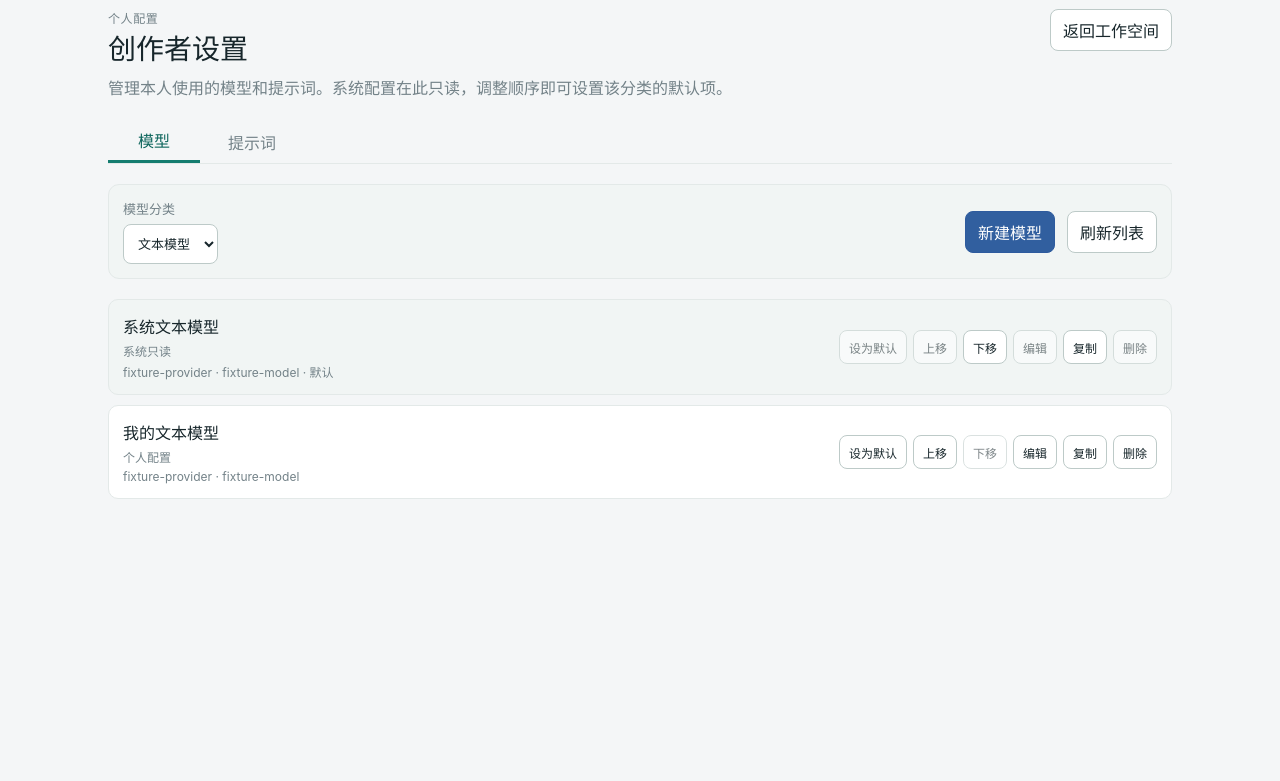
Test: creator settings › copies a complex style prompt without rewriting its JSON text
The image size is (1280, 781).
Click the tab "提示词". click: click(252, 142)
box: [206, 120, 298, 163]
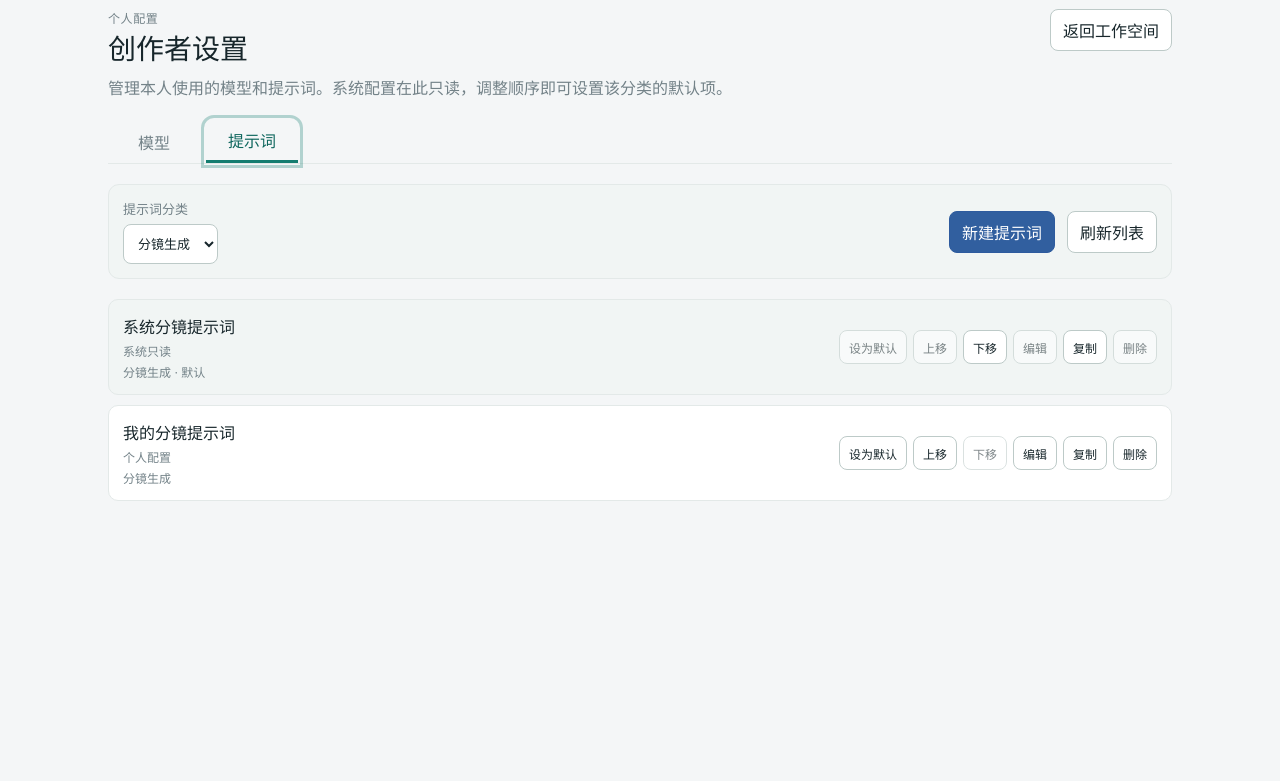
Expected: the text "系统分镜提示词" is shown, [123, 317, 235, 337]
Select "风格" in the dropdown labelled "提示词分类". click: (170, 244)
box: [123, 224, 218, 264]
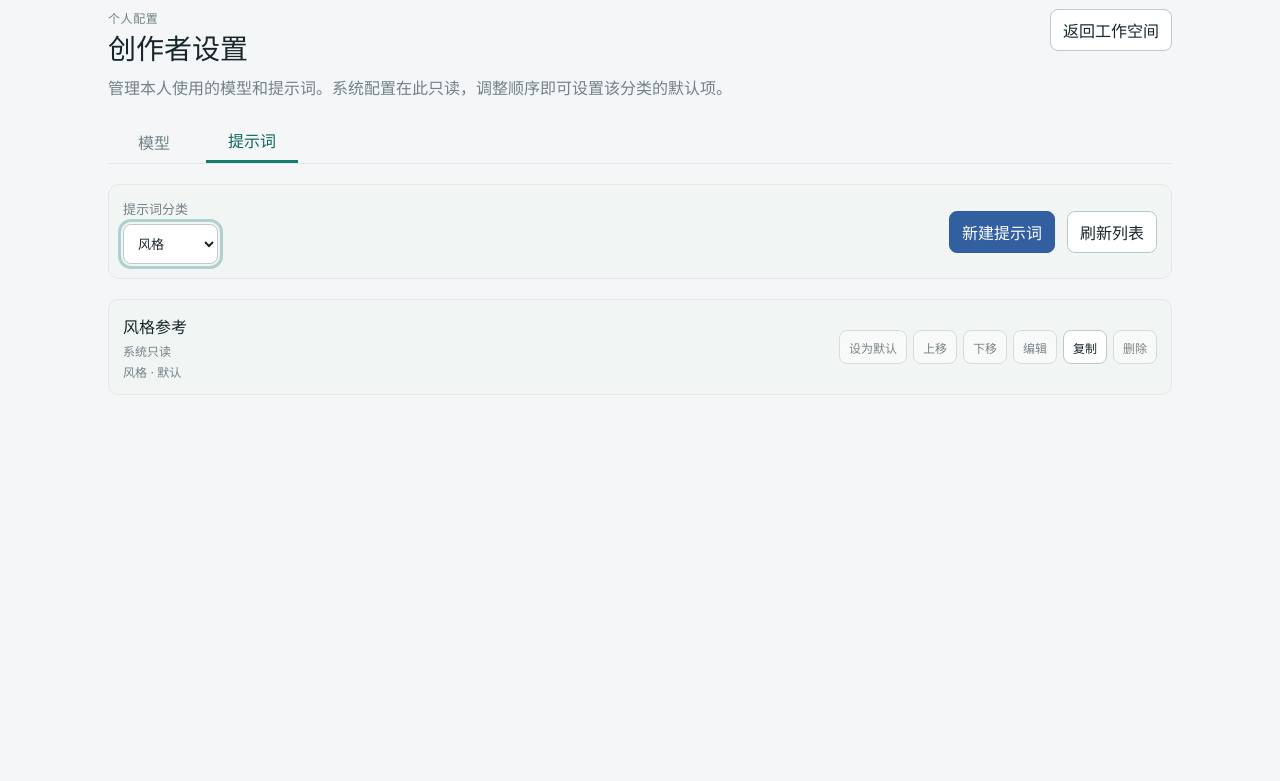
Expected: the text "风格参考" is shown, [123, 317, 187, 337]
Click the button "复制". click: click(1085, 347)
box: [1063, 330, 1107, 364]
(page scrolled)
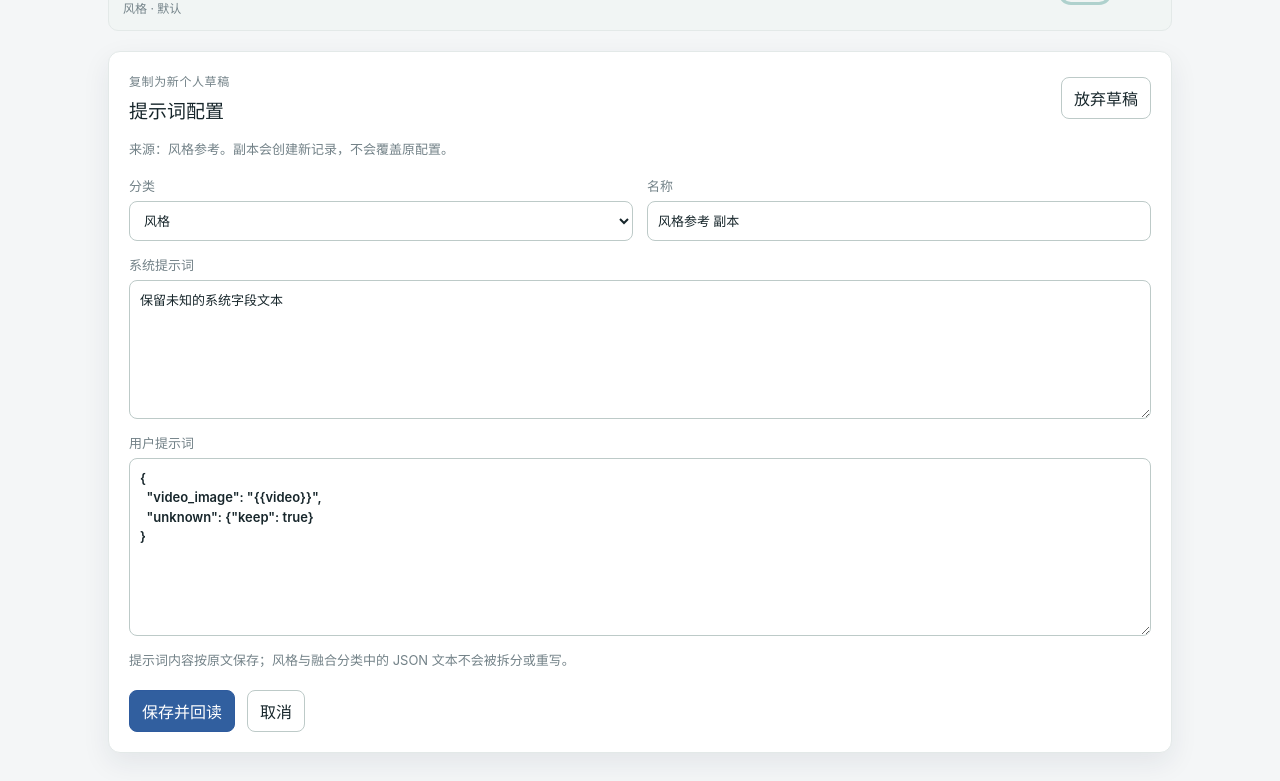
Click the button "保存并回读". click: click(182, 711)
box: [129, 690, 235, 732]
(page scrolled)
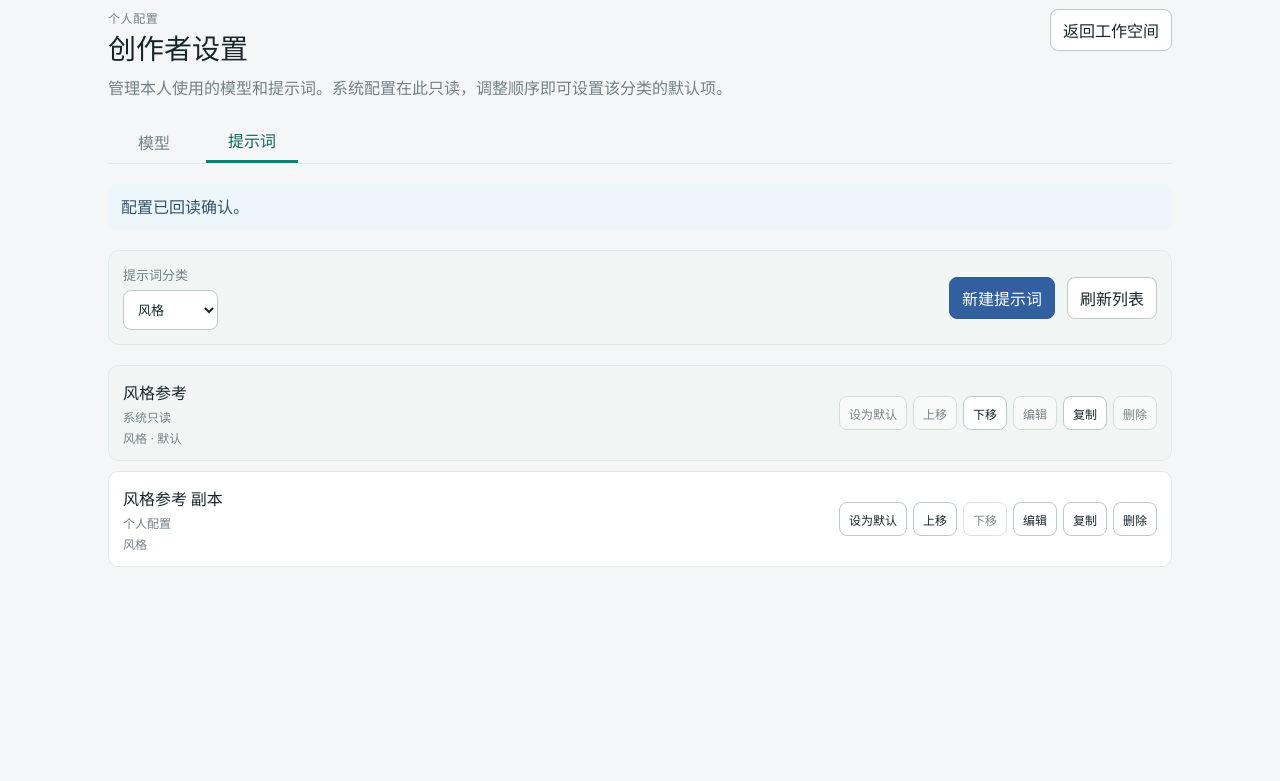
Expected: the text "配置已回读确认。" is shown, [108, 184, 1172, 230]
